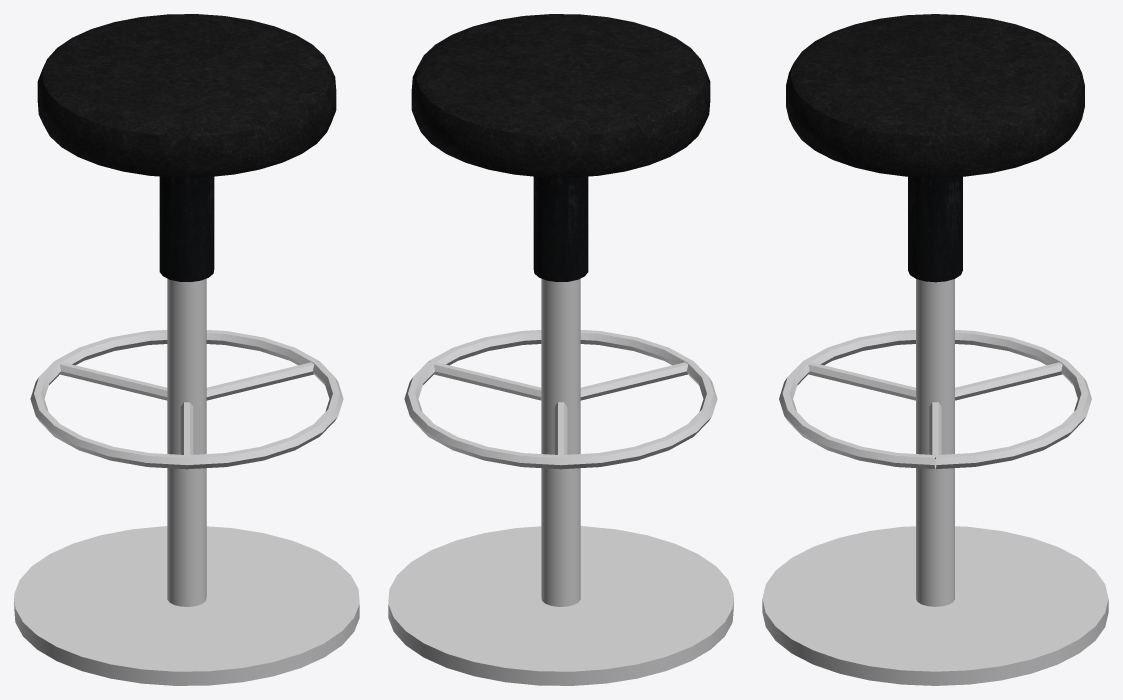
File: bar_stool.gltf
3 renders of one model, left to right at view 1: azimuth 30°, elevation 25°; view 2: azimuth 150°, elevation 25°; view 3: azimuth 270°, elevation 25°, orthographic.
Parts seen in each view (by area): view 1: bar_stool; view 2: bar_stool; view 3: bar_stool.
Part boxes in pixels (x1,y1,x2,y2): bar_stool: (14,14,359,685); bar_stool: (388,14,733,685); bar_stool: (762,14,1108,685).
Size of the model in its own units: 0.44 by 0.76 by 0.44.
Materials: 3 (2 with a texture image).
